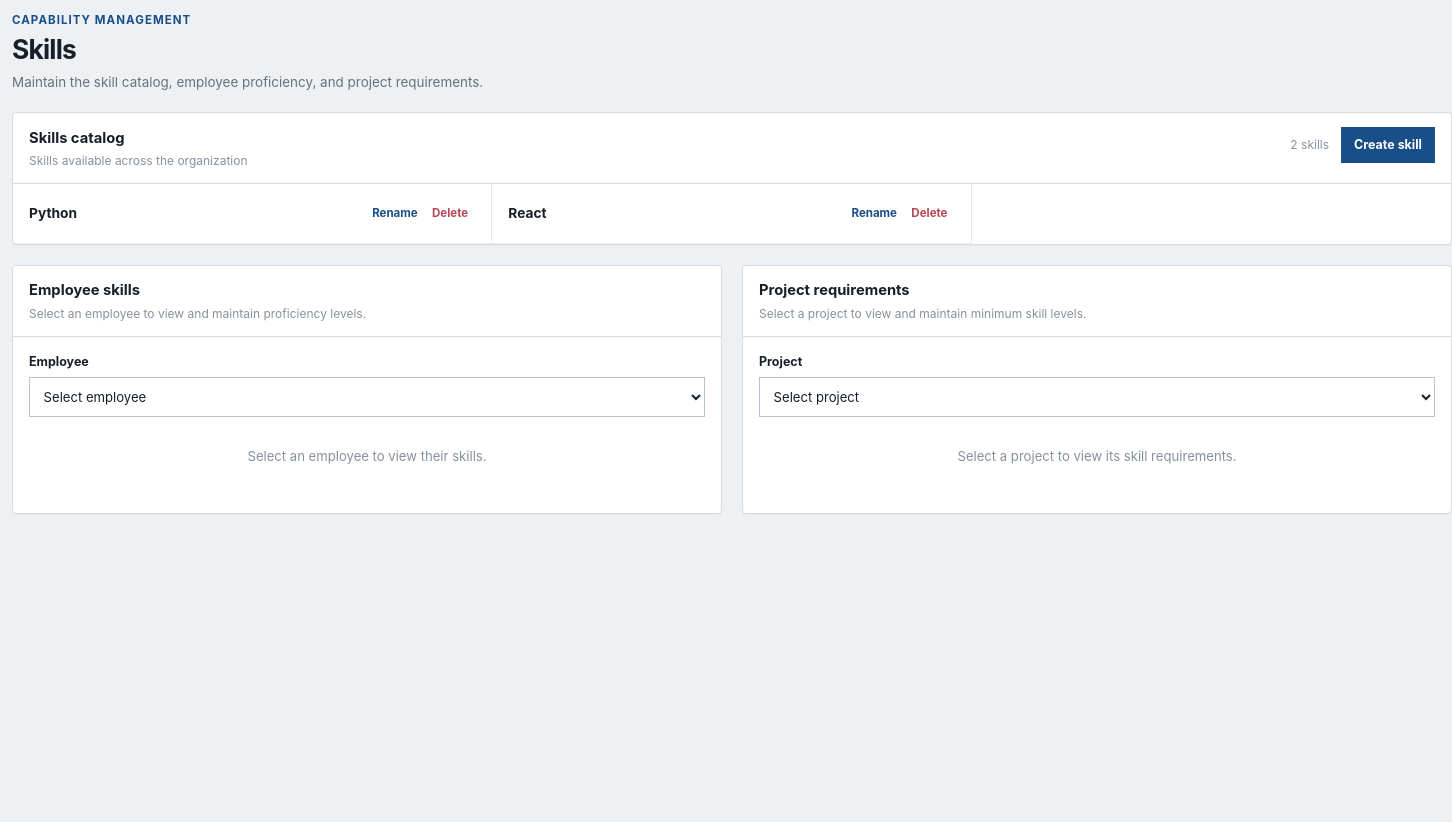
SkillsPage › deletes a catalog skill after confirmation
This screenshot has width=1452, height=822.
Expected: the text "Python" is shown, 29,203 -> 77,224
Click the button "Delete" in the row of "Python": point(450, 214) 425,200 -> 475,227
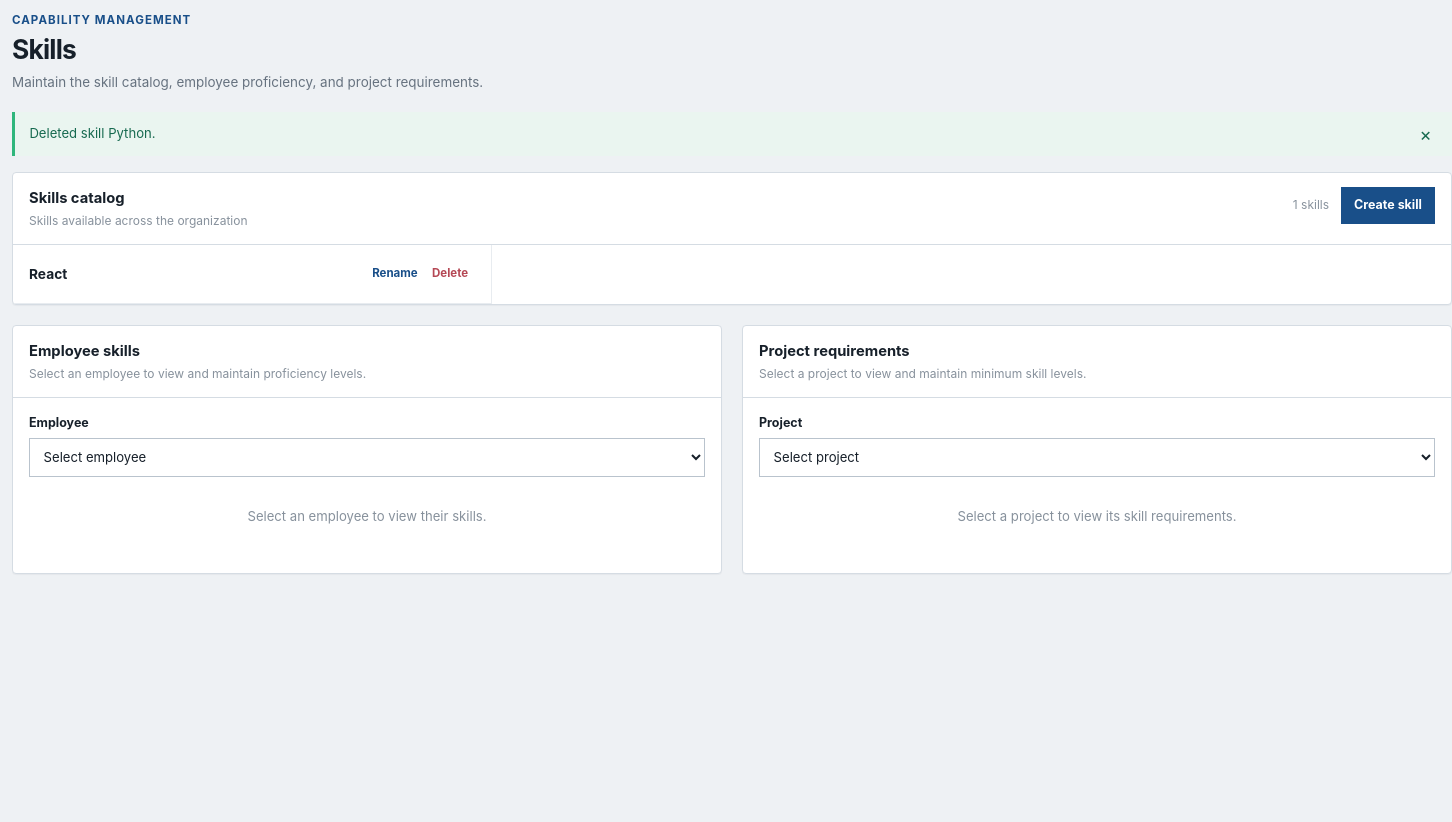
Result: the message shows "Deleted skill Python." at 29,125 -> 156,141
